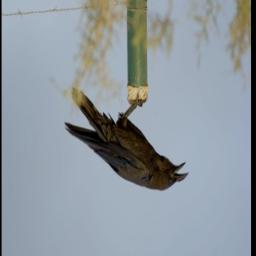Crow: (60, 86, 192, 197)
